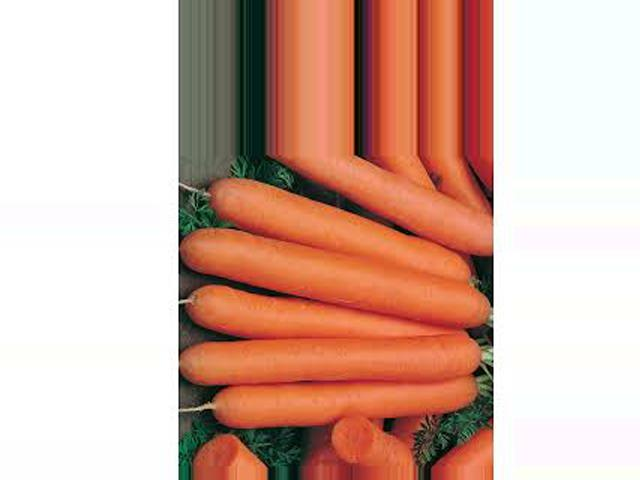carrot: (168, 237, 488, 331)
